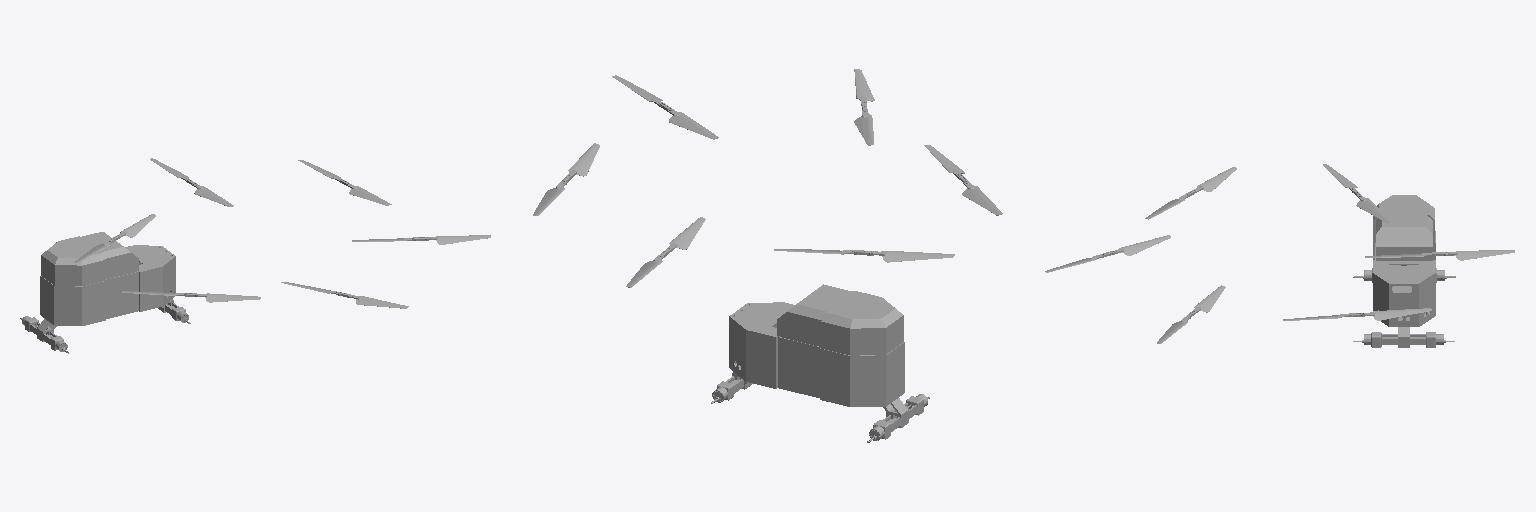
URDF robot description (chc):
<?xml version="1.0" encoding="utf-8"?>
<!-- This URDF was automatically created by SolidWorks to URDF Exporter! Originally created by [author] ([email redacted]) 
     Commit Version: 1.5.1-0-g916b5db  Build Version: 1.5.7152.31018
     For more information, please see http://wiki.ros.org/sw_urdf_exporter -->
<robot
  name="chc">
  <link
    name="base_link">
    <inertial>
      <origin
        xyz="0.153435343413958 0.279256347449089 0.427598033601038"
        rpy="0 0 0" />
      <mass
        value="13.3143923314902" />
      <inertia
        ixx="0.049257304457115"
        ixy="4.8095810103707E-05"
        ixz="-0.000447442166962408"
        iyy="0.0987482948976207"
        iyz="-4.22053437379323E-06"
        izz="0.0758221479731222" />
    </inertial>
    <visual>
      <origin
        xyz="0 0 0"
        rpy="0 0 0" />
      <geometry>
        <mesh
          filename="package://chc/meshes/base_link.STL" />
      </geometry>
      <material
        name="">
        <color
          rgba="0.698039215686274 0.698039215686274 0.698039215686274 1" />
      </material>
    </visual>
    <collision>
      <origin
        xyz="0 0 0"
        rpy="0 0 0" />
      <geometry>
        <mesh
          filename="package://chc/meshes/base_link.STL" />
      </geometry>
    </collision>
  </link>
  <link
    name="a">
    <inertial>
      <origin
        xyz="-0.000261077451711111 0.0120920473366849 1.48984772350147E-05"
        rpy="0 0 0" />
      <mass
        value="0.0370533673373492" />
      <inertia
        ixx="0.000103955698057427"
        ixy="-2.55907136887189E-08"
        ixz="-1.02306945637076E-05"
        iyy="0.000107226899970895"
        iyz="-4.73247445602561E-08"
        izz="3.69855930008425E-06" />
    </inertial>
    <visual>
      <origin
        xyz="0 0 0"
        rpy="0 0 0" />
      <geometry>
        <mesh
          filename="package://chc/meshes/a.STL" />
      </geometry>
      <material
        name="">
        <color
          rgba="0.698039215686274 0.698039215686274 0.698039215686274 1" />
      </material>
    </visual>
    <collision>
      <origin
        xyz="0 0 0"
        rpy="0 0 0" />
      <geometry>
        <mesh
          filename="package://chc/meshes/a.STL" />
      </geometry>
    </collision>
  </link>
  <joint
    name="aa"
    type="continuous">
    <origin
      xyz="0.62754 -0.15388 0.39902"
      rpy="1.5703 0.0092273 0.076744" />
    <parent
      link="base_link" />
    <child
      link="a" />
    <axis
      xyz="0.0092269 -0.99996 -0.00045467" />
  </joint>
  <link
    name="b">
    <inertial>
      <origin
        xyz="-0.000261080674433256 0.0120922413442349 1.48985013623815E-05"
        rpy="0 0 0" />
      <mass
        value="0.0370526319211824" />
      <inertia
        ixx="0.000103960475795434"
        ixy="-2.55876547265067E-08"
        ixz="-1.02336127184345E-05"
        iyy="0.00010723148740865"
        iyz="-4.73493771150794E-08"
        izz="3.69813174012549E-06" />
    </inertial>
    <visual>
      <origin
        xyz="0 0 0"
        rpy="0 0 0" />
      <geometry>
        <mesh
          filename="package://chc/meshes/b.STL" />
      </geometry>
      <material
        name="">
        <color
          rgba="0.698039215686274 0.698039215686274 0.698039215686274 1" />
      </material>
    </visual>
    <collision>
      <origin
        xyz="0 0 0"
        rpy="0 0 0" />
      <geometry>
        <mesh
          filename="package://chc/meshes/b.STL" />
      </geometry>
    </collision>
  </link>
  <joint
    name="bb"
    type="continuous">
    <origin
      xyz="0.62754 -0.70131 0.39902"
      rpy="1.5703 0.0092265 1.0294" />
    <parent
      link="base_link" />
    <child
      link="b" />
    <axis
      xyz="0.0092269 -0.99996 -0.00045467" />
  </joint>
  <link
    name="c">
    <inertial>
      <origin
        xyz="-0.00026108136225933 0.0120922663154713 1.48985359311737E-05"
        rpy="0 0 0" />
      <mass
        value="0.0370523979307435" />
      <inertia
        ixx="0.000103961714280872"
        ixy="-2.55880349888279E-08"
        ixz="-1.02341949749603E-05"
        iyy="0.000107232795800359"
        iyz="-4.73541777015381E-08"
        izz="3.69818374121028E-06" />
    </inertial>
    <visual>
      <origin
        xyz="0 0 0"
        rpy="0 0 0" />
      <geometry>
        <mesh
          filename="package://chc/meshes/c.STL" />
      </geometry>
      <material
        name="">
        <color
          rgba="0.698039215686274 0.698039215686274 0.698039215686274 1" />
      </material>
    </visual>
    <collision>
      <origin
        xyz="0 0 0"
        rpy="0 0 0" />
      <geometry>
        <mesh
          filename="package://chc/meshes/c.STL" />
      </geometry>
    </collision>
  </link>
  <joint
    name="cc"
    type="continuous">
    <origin
      xyz="0.15346 -0.97502 0.39902"
      rpy="1.5703 0.0092265 0.50176" />
    <parent
      link="base_link" />
    <child
      link="c" />
    <axis
      xyz="0.0092269 -0.99996 -0.00045467" />
  </joint>
  <link
    name="d">
    <inertial>
      <origin
        xyz="-0.000261081317286194 0.0120922727261251 1.48985204954655E-05"
        rpy="0 0 0" />
      <mass
        value="0.0370524515753723" />
      <inertia
        ixx="0.000103960958148904"
        ixy="-2.55878181130016E-08"
        ixz="-1.02338608257885E-05"
        iyy="0.000107231999714093"
        iyz="-4.73514404747606E-08"
        izz="3.69815375885829E-06" />
    </inertial>
    <visual>
      <origin
        xyz="0 0 0"
        rpy="0 0 0" />
      <geometry>
        <mesh
          filename="package://chc/meshes/d.STL" />
      </geometry>
      <material
        name="">
        <color
          rgba="0.698039215686274 0.698039215686274 0.698039215686274 1" />
      </material>
    </visual>
    <collision>
      <origin
        xyz="0 0 0"
        rpy="0 0 0" />
      <geometry>
        <mesh
          filename="package://chc/meshes/d.STL" />
      </geometry>
    </collision>
  </link>
  <joint
    name="dd"
    type="continuous">
    <origin
      xyz="-0.32062 -0.70131 0.39902"
      rpy="1.5703 0.0092272 0.84515" />
    <parent
      link="base_link" />
    <child
      link="d" />
    <axis
      xyz="0.0092269 -0.99996 -0.00045467" />
  </joint>
  <link
    name="e">
    <inertial>
      <origin
        xyz="-0.000261080678023565 0.0120923460609948 1.48985432892879E-05"
        rpy="0 0 0" />
      <mass
        value="0.0370531297034443" />
      <inertia
        ixx="0.000103962499686914"
        ixy="-2.55866852296768E-08"
        ixz="-1.02338729723253E-05"
        iyy="0.000107233420414485"
        iyz="-4.73508536415157E-08"
        izz="3.6980241937689E-06" />
    </inertial>
    <visual>
      <origin
        xyz="0 0 0"
        rpy="0 0 0" />
      <geometry>
        <mesh
          filename="package://chc/meshes/e.STL" />
      </geometry>
      <material
        name="">
        <color
          rgba="0.698039215686274 0.698039215686274 0.698039215686274 1" />
      </material>
    </visual>
    <collision>
      <origin
        xyz="0 0 0"
        rpy="0 0 0" />
      <geometry>
        <mesh
          filename="package://chc/meshes/e.STL" />
      </geometry>
    </collision>
  </link>
  <joint
    name="ee"
    type="continuous">
    <origin
      xyz="-0.32062 -0.15388 0.39902"
      rpy="1.5703 0.0092267 -1.2251" />
    <parent
      link="base_link" />
    <child
      link="e" />
    <axis
      xyz="0.0092269 -0.99996 -0.00045467" />
  </joint>
  <link
    name="f">
    <inertial>
      <origin
        xyz="-0.000261076470444793 0.0120916983480183 1.48978622521584E-05"
        rpy="0 0 0" />
      <mass
        value="0.0370522416463855" />
      <inertia
        ixx="0.000103961423340217"
        ixy="-2.55943525246052E-08"
        ixz="-1.02318962449463E-05"
        iyy="0.000107233057390549"
        iyz="-4.7335277253784E-08"
        izz="3.69908776650105E-06" />
    </inertial>
    <visual>
      <origin
        xyz="0 0 0"
        rpy="0 0 0" />
      <geometry>
        <mesh
          filename="package://chc/meshes/f.STL" />
      </geometry>
      <material
        name="">
        <color
          rgba="0.698039215686274 0.698039215686274 0.698039215686274 1" />
      </material>
    </visual>
    <collision>
      <origin
        xyz="0 0 0"
        rpy="0 0 0" />
      <geometry>
        <mesh
          filename="package://chc/meshes/f.STL" />
      </geometry>
    </collision>
  </link>
  <joint
    name="ff"
    type="continuous">
    <origin
      xyz="0.15346 0.11983 0.39902"
      rpy="1.5703 0.0092277 0" />
    <parent
      link="base_link" />
    <child
      link="f" />
    <axis
      xyz="0.0092269 -0.99996 -0.00045465" />
  </joint>
</robot>

--- Facts derived from the render (not from the file) ---
3 views of the same robot in one strip: view 1: azimuth 30°, elevation 25°; view 2: azimuth 150°, elevation 25°; view 3: azimuth 270°, elevation 25° (orthographic).
Model chc with 7 links and 6 joints (6 continuous), rooted at base_link, posed every joint at zero.
Links seen in each view (by area): view 1: base_link, b, d, c, e, a, f; view 2: base_link, e, b, f, a, d, c; view 3: base_link, a, f, c, d, b, e.
Link boxes in pixels (x1,y1,x2,y2): base_link: [20, 232, 190, 353]; b: [352, 235, 490, 244]; d: [122, 291, 260, 302]; c: [281, 282, 408, 308]; e: [74, 214, 155, 262]; a: [298, 160, 391, 205]; f: [150, 158, 233, 206]; base_link: [711, 284, 929, 442]; e: [774, 249, 954, 262]; b: [612, 75, 718, 139]; f: [626, 217, 705, 287]; a: [533, 143, 599, 215]; d: [924, 145, 1002, 215]; c: [854, 69, 874, 145]; base_link: [1353, 195, 1455, 347]; a: [1283, 308, 1431, 320]; f: [1365, 250, 1514, 260]; c: [1045, 235, 1170, 272]; d: [1145, 167, 1236, 219]; b: [1157, 285, 1225, 343]; e: [1323, 164, 1391, 222].
Size in the robot's own frame: 1.41 by 1.55 by 0.4162 metres.
7 mesh visuals loaded from 7 distinct referenced files (7 binary STL).